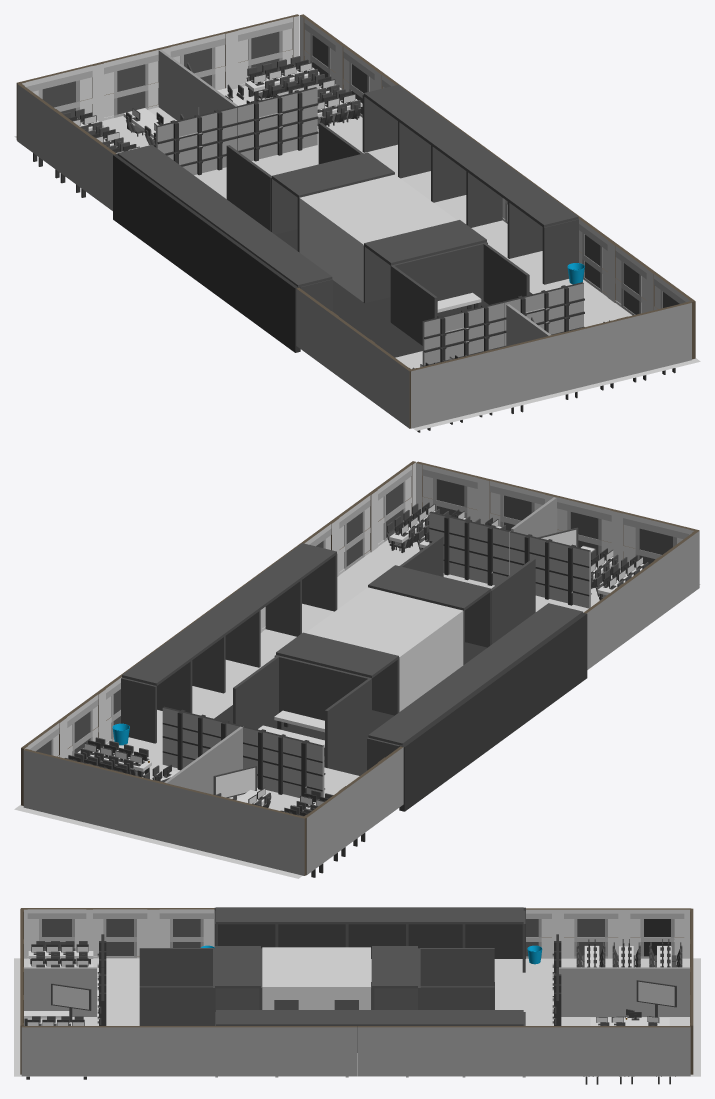
Rendered from Level_2.fbx.
3 renders of one model, top to bottom at view 1: azimuth 30°, elevation 25°; view 2: azimuth 150°, elevation 25°; view 3: azimuth 270°, elevation 25°, orthographic. The views are drawn at different scales.
Visible parts, largest first — view 1: pCube450; view 2: pCube450; view 3: pCube450.
Part boxes in pixels (x1=…): pCube450: x1=14, y1=14, x2=700, y2=432; pCube450: x1=14, y1=461, x2=700, y2=878; pCube450: x1=14, y1=907, x2=700, y2=1084.
Size of the model in its own units: 24.58 by 6.18 by 59.47.
